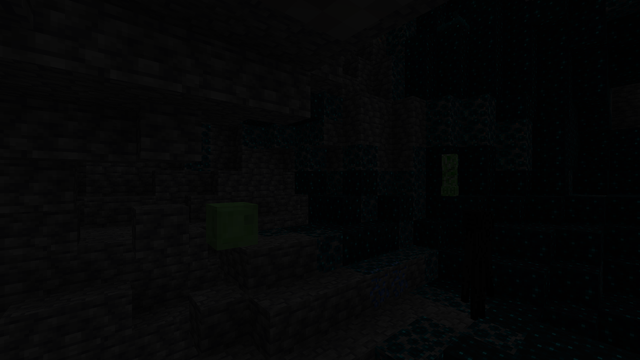creepers: (438, 151, 460, 195)
endermens: (461, 205, 494, 326)
slimes: (204, 200, 259, 250)
